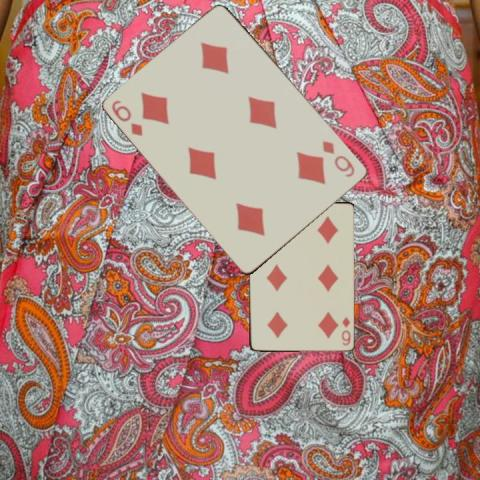6d: (319, 137, 357, 179), (108, 97, 144, 138), (339, 314, 351, 347)
